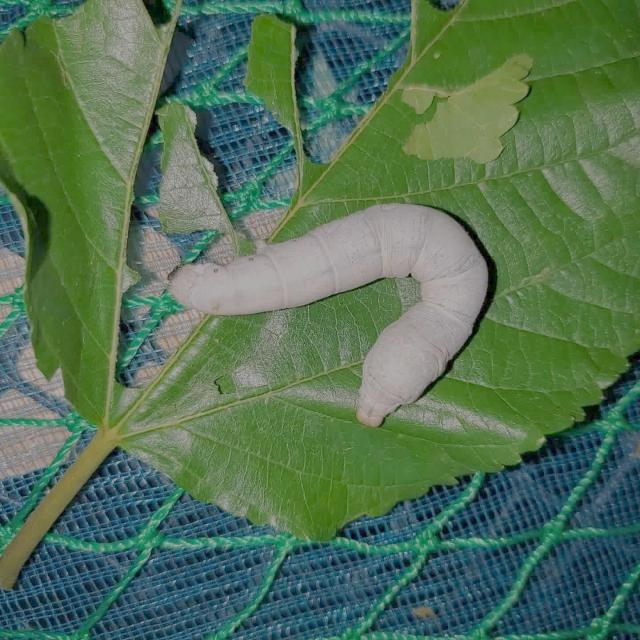Healthy: (160, 196, 500, 432)
